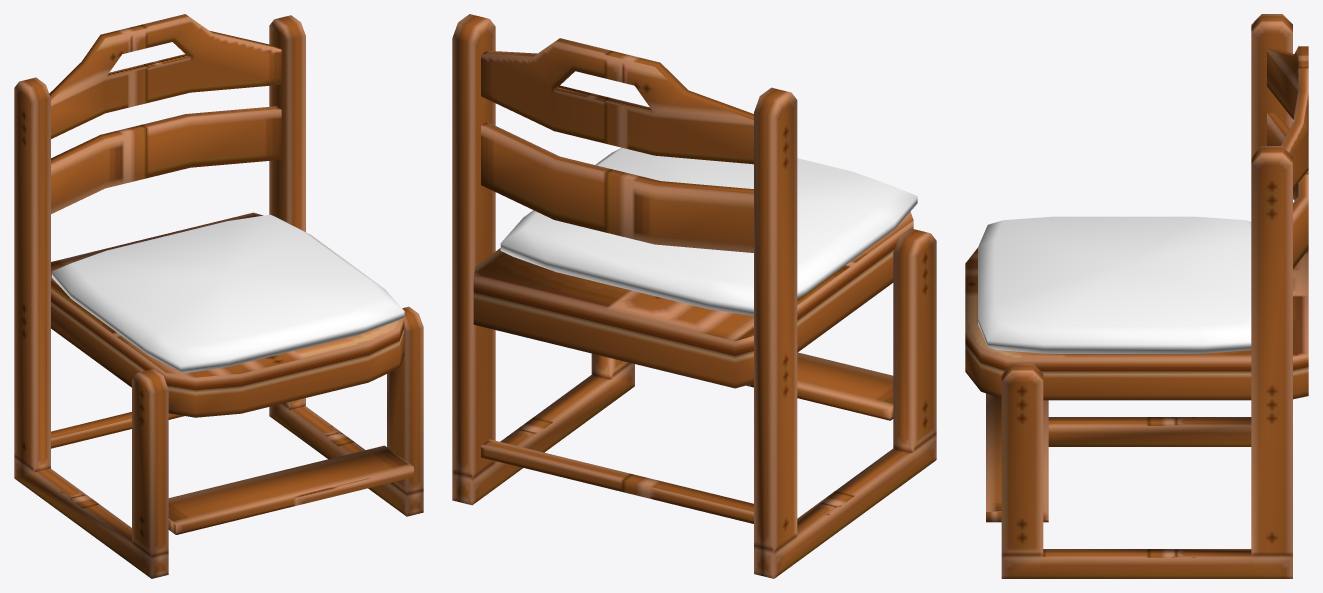
File: rmk_std_chairS.dae
The picture shows the model from 3 angles, left to right: view 1: azimuth 30°, elevation 25°; view 2: azimuth 150°, elevation 25°; view 3: azimuth 270°, elevation 25°; orthographic projection. The views are drawn at different scales.
Parts seen in each view (by area): view 1: rmk_std_chairS; view 2: rmk_std_chairS; view 3: rmk_std_chairS.
Part boxes in pixels (x1,y1,x2,y2): rmk_std_chairS: [14, 14, 423, 578]; rmk_std_chairS: [452, 14, 936, 578]; rmk_std_chairS: [965, 14, 1308, 578].
Bounding box in the file's own units: 20.48 × 29.88 × 21.12.
Materials: 2 (2 with a texture image).
